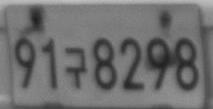1: (40, 36, 62, 90)
2: (119, 36, 145, 90)
8: (92, 37, 117, 90), (174, 37, 199, 90)
9: (145, 36, 170, 90), (13, 36, 36, 88)
구: (64, 46, 87, 88)
